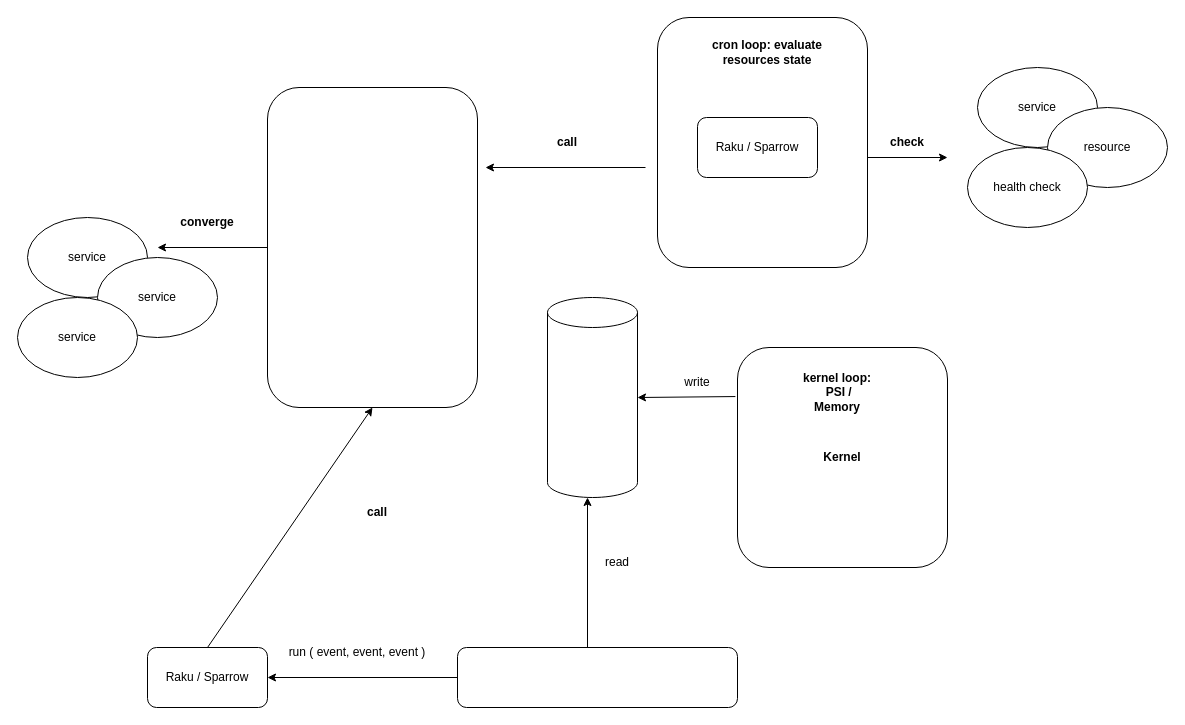
Some shapes in this 1185 by 725 pixel diagram are drawn without their labels. The shapes that lost their labels are listed below. From the top down, each one's centre as x and y in pixels, then its label:
At point 372,247: "systemd".
At point 592,397: "queue".
At point 597,677: "cbeam manager".
